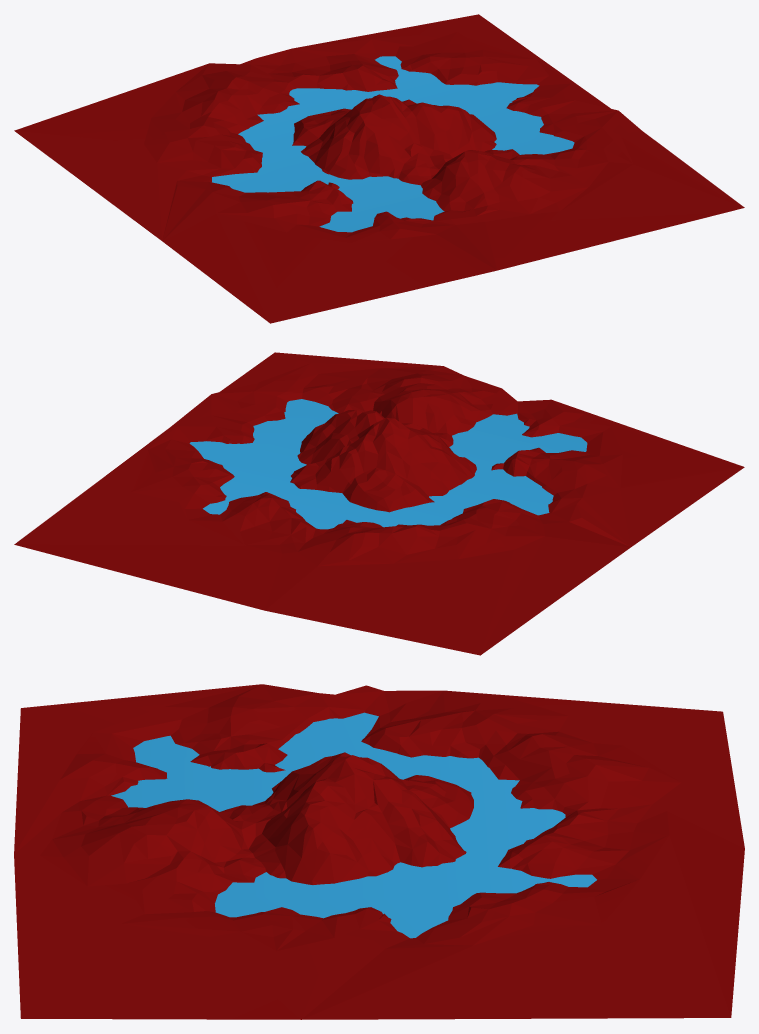
File: PP_Lake_Ground_04.fbx
The picture shows the model from 3 angles, top to bottom: view 1: azimuth 30°, elevation 25°; view 2: azimuth 150°, elevation 25°; view 3: azimuth 270°, elevation 25°; orthographic projection. The views are drawn at different scales.
Parts seen in each view (by area): view 1: PP_Lake_Ground_04, PP_Lake_Ground_Water_04; view 2: PP_Lake_Ground_04, PP_Lake_Ground_Water_04; view 3: PP_Lake_Ground_04, PP_Lake_Ground_Water_04.
Boxes of the visible parts, x1,y1,x2,y2 form: PP_Lake_Ground_04: (14,14,744,323); PP_Lake_Ground_Water_04: (212,56,574,232); PP_Lake_Ground_04: (14,352,744,655); PP_Lake_Ground_Water_04: (189,399,587,529); PP_Lake_Ground_04: (14,684,744,1019); PP_Lake_Ground_Water_04: (111,712,596,938).
Bounding box in the file's own units: 2439 × 2416 × 391.
